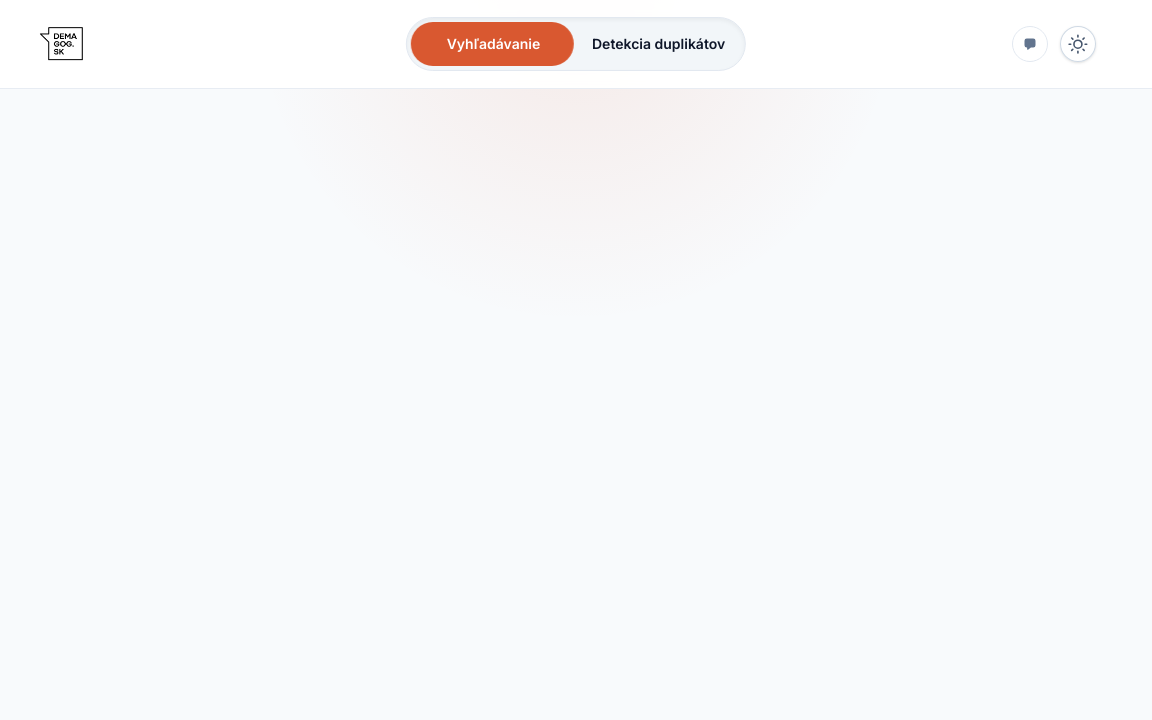
FeedbackWidget › focus is restored to the navbar button after closing
Click the button named "Otvoriť spätnú väzbu": click(1030, 44) [1012,26,1048,62]
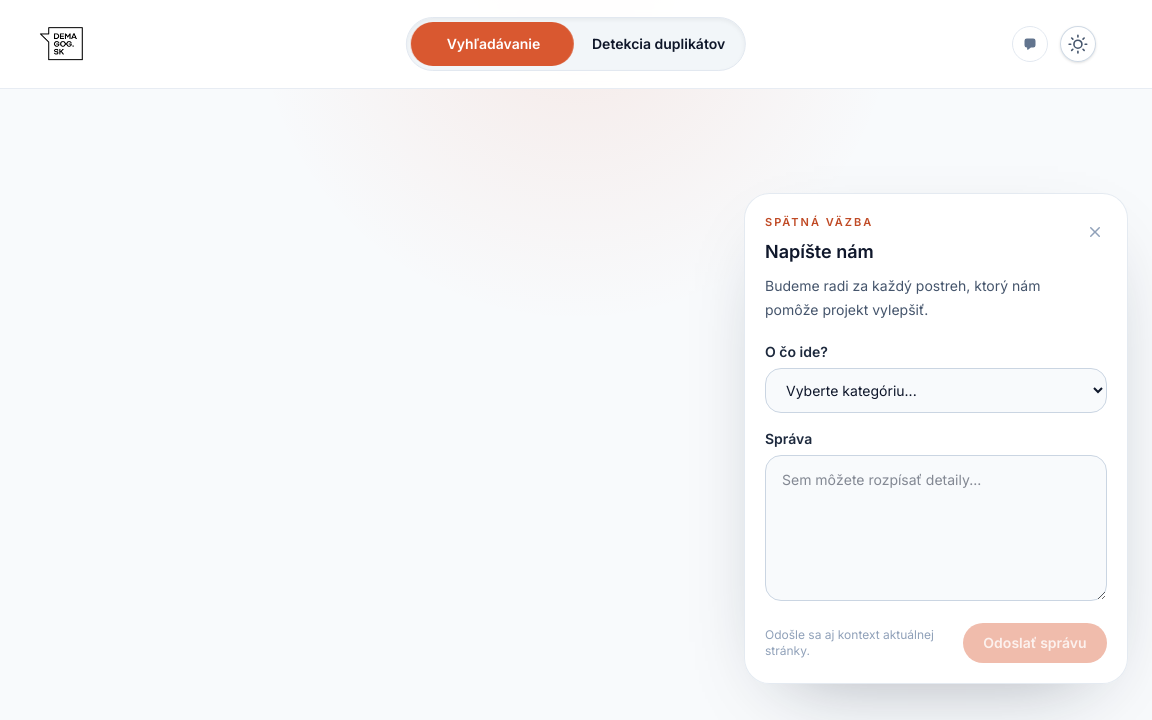
expect the dialog "Napíšte nám" is shown: met, box [744,192,1128,684]
Click the button named "Zavrieť spätnú väzbu": click(1030, 44) [1012,26,1048,62]
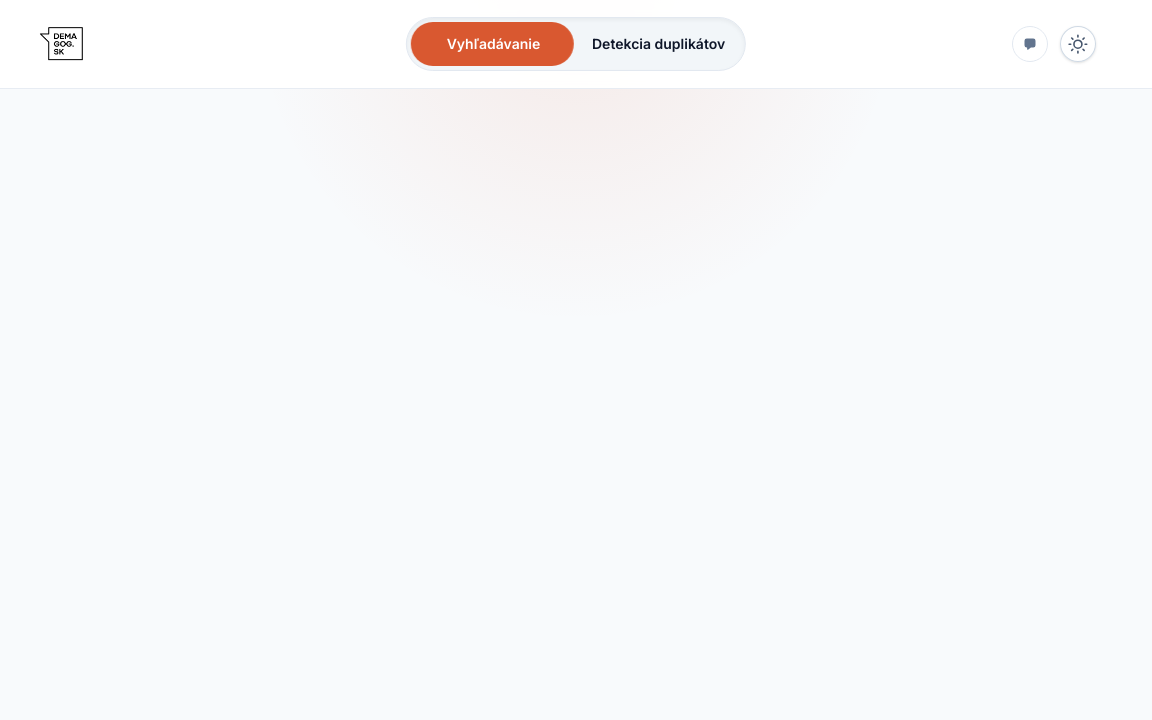
expect the heading "Napíšte nám" is gone: met
